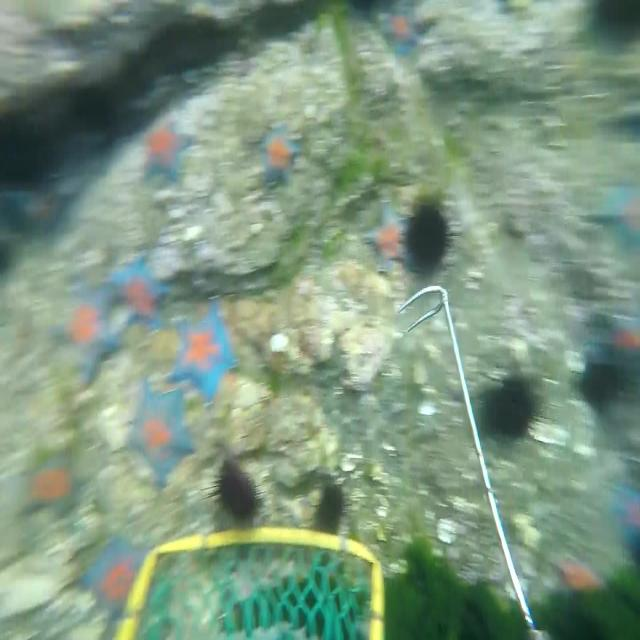echinus: (399, 200, 466, 276), (0, 107, 55, 196), (199, 456, 266, 526), (491, 367, 544, 443), (72, 80, 116, 140), (579, 357, 624, 415), (590, 0, 640, 51), (311, 480, 352, 535)
starfish: (162, 296, 245, 412), (49, 273, 124, 392), (124, 373, 199, 491), (16, 434, 105, 527), (78, 533, 155, 627), (109, 251, 169, 336), (138, 116, 196, 184), (363, 199, 413, 273), (601, 306, 640, 385), (605, 175, 640, 261), (260, 117, 300, 187), (377, 0, 422, 60), (610, 478, 640, 561)
